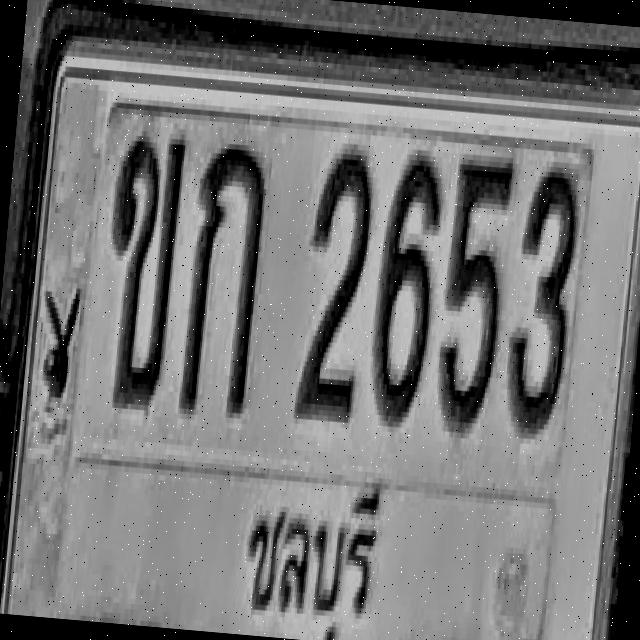10GorGai: (178, 134, 270, 416)
11KhorKhai: (97, 126, 187, 410)
2: (294, 143, 376, 420)
3: (502, 159, 584, 436)
5: (434, 150, 516, 432)
6: (366, 150, 444, 426)
Chonburi: (224, 454, 385, 640)
